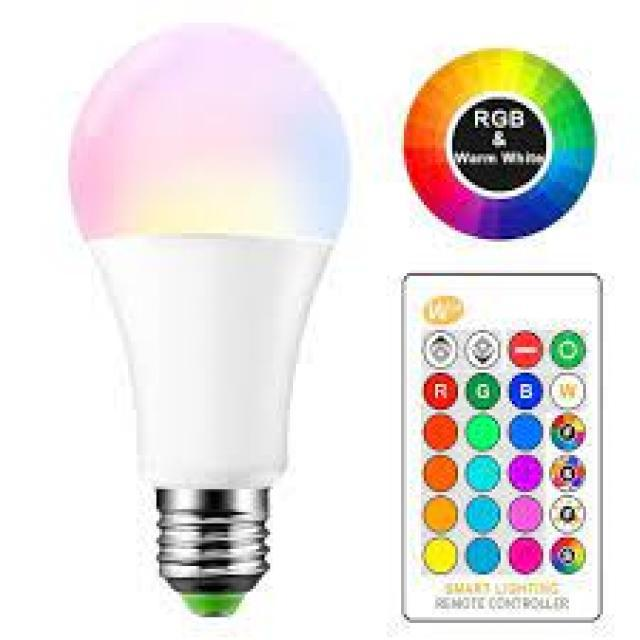light_bulb: (56, 9, 364, 629)
